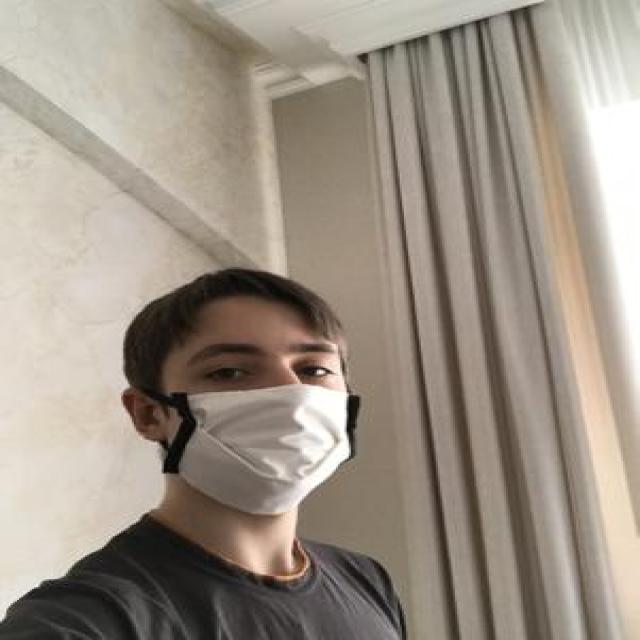with_mask: (163, 329, 360, 516)
